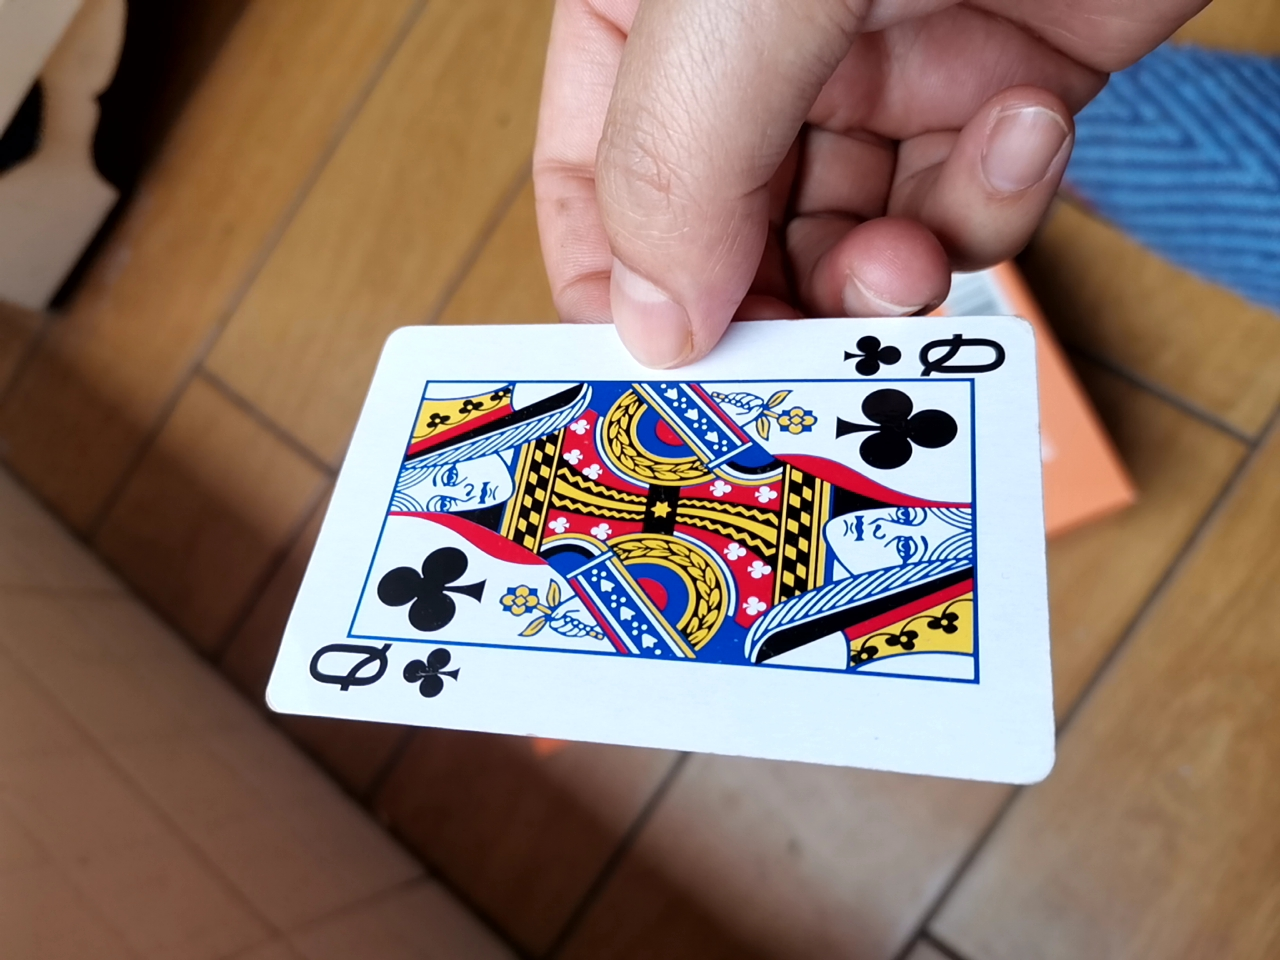mh q: (255, 276, 1071, 785)
